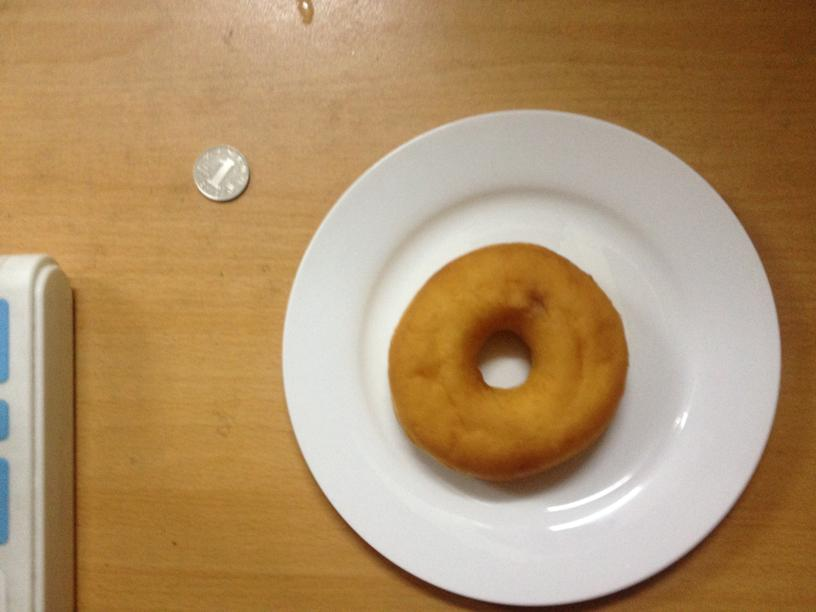coin: (193, 144, 250, 202)
doughnut: (383, 240, 628, 482)
